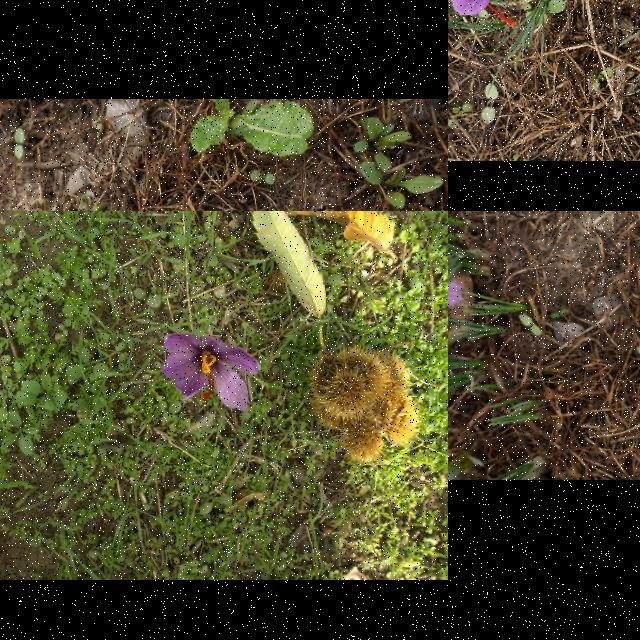flower: (160, 333, 262, 413), (448, 268, 463, 326)
